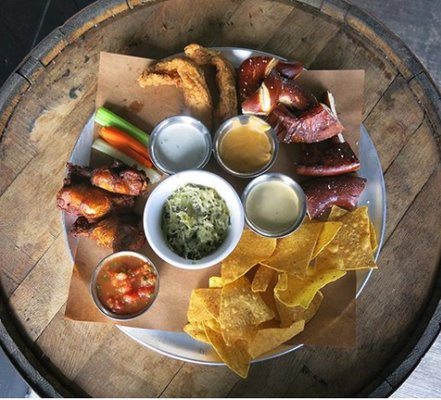pizza: (242, 172, 307, 239), (149, 115, 213, 176)
sushi: (143, 169, 245, 270), (89, 250, 160, 320), (213, 113, 279, 180), (148, 115, 213, 176)
